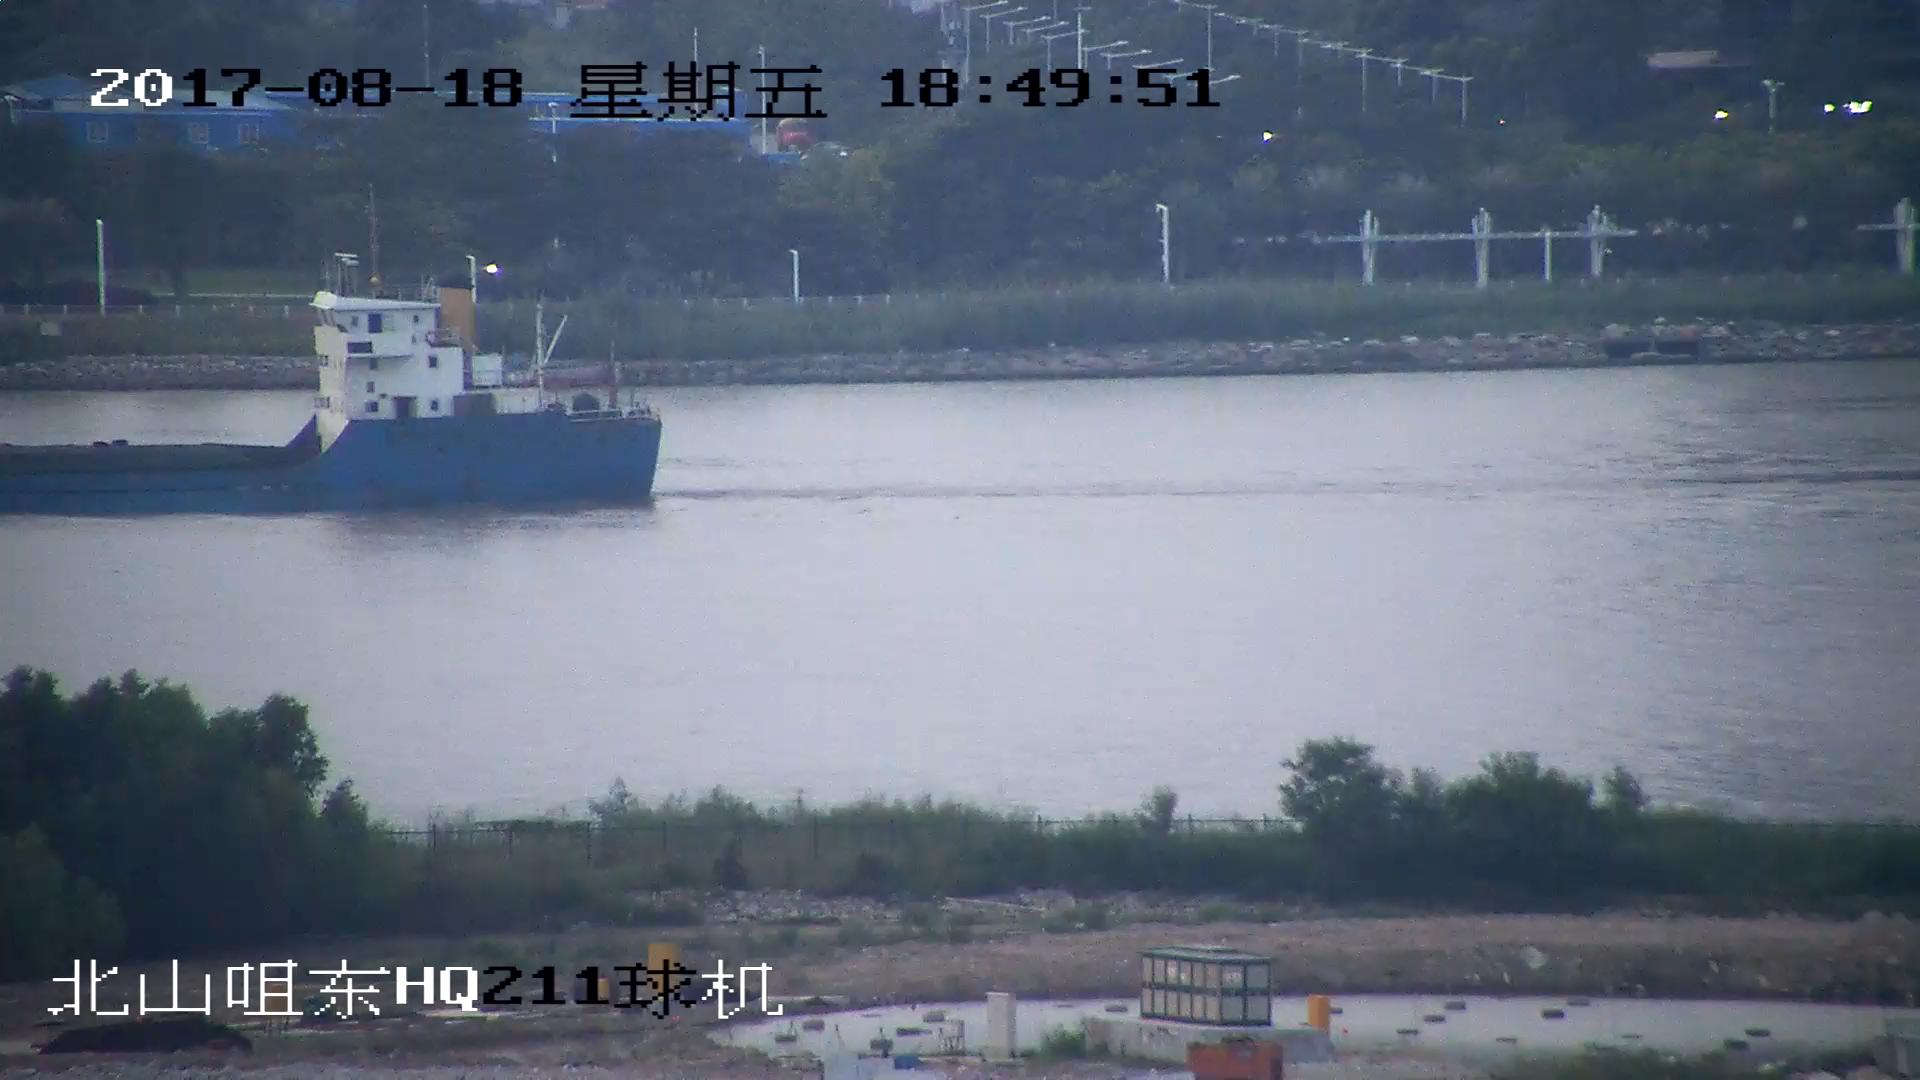general cargo ship: (1, 251, 665, 511)
